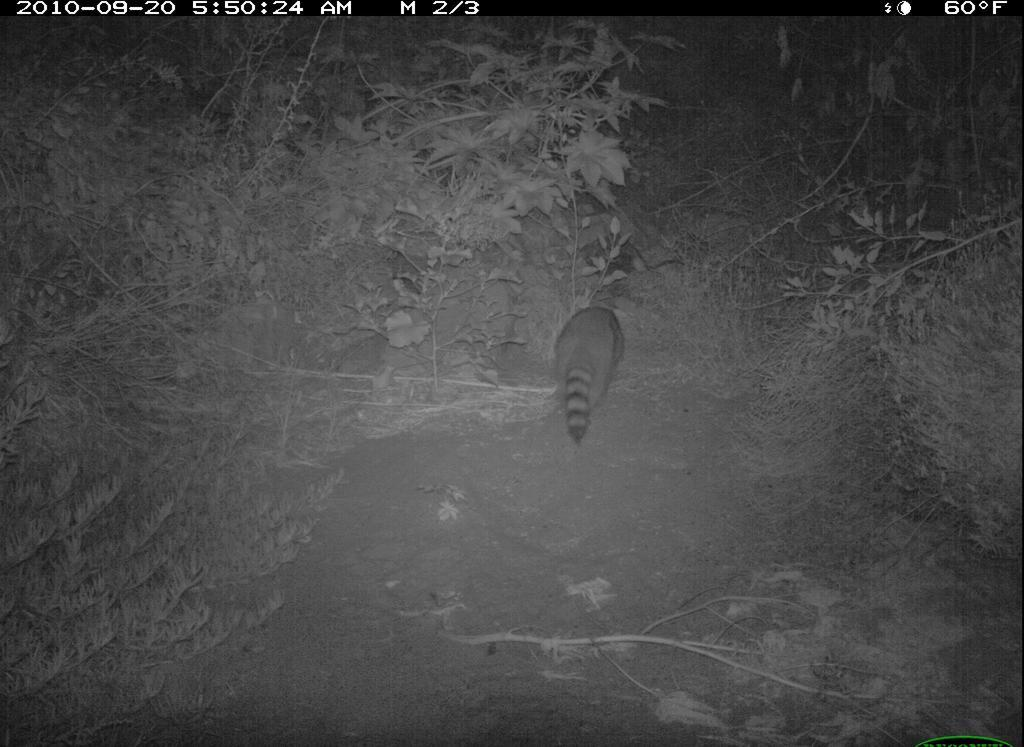raccoon: (546, 304, 632, 452)
